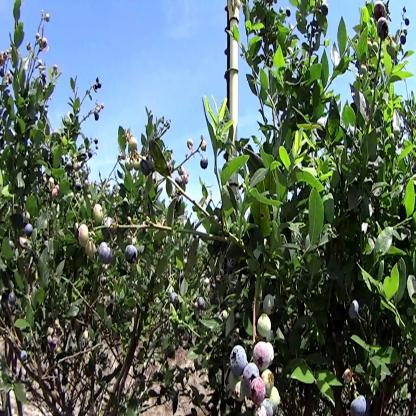intermediate: (251, 378, 266, 407), (51, 186, 60, 202)
mature: (230, 345, 248, 380), (351, 392, 371, 416), (97, 237, 112, 268), (123, 241, 140, 268), (243, 365, 260, 390), (25, 222, 35, 241), (8, 289, 17, 306), (199, 295, 207, 314), (199, 156, 209, 171)
young: (261, 371, 277, 397), (77, 223, 91, 250), (257, 315, 273, 338), (91, 203, 104, 229), (271, 388, 283, 411), (87, 240, 99, 263), (127, 136, 139, 156), (264, 295, 276, 313), (201, 136, 209, 156), (124, 159, 135, 173), (187, 137, 196, 153), (221, 308, 231, 322), (133, 159, 143, 173), (394, 127, 401, 141)
